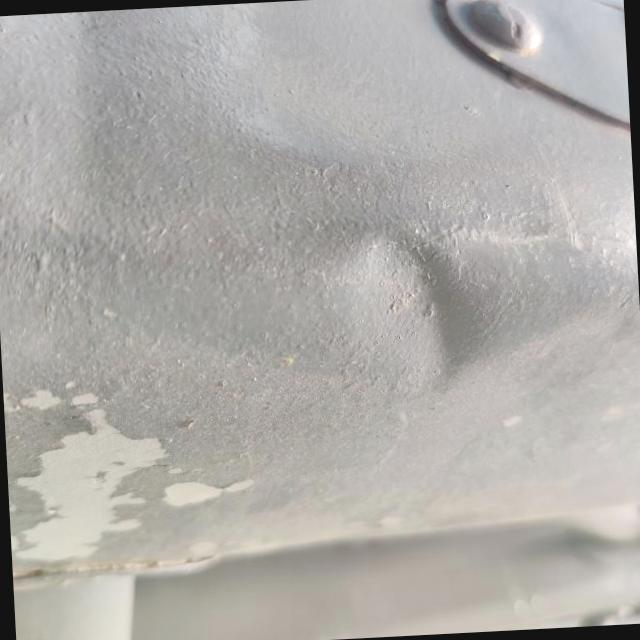dent: (330, 190, 520, 410)
paint-off: (2, 362, 270, 576)
